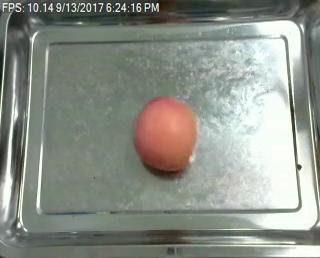apple: (134, 96, 199, 172)
